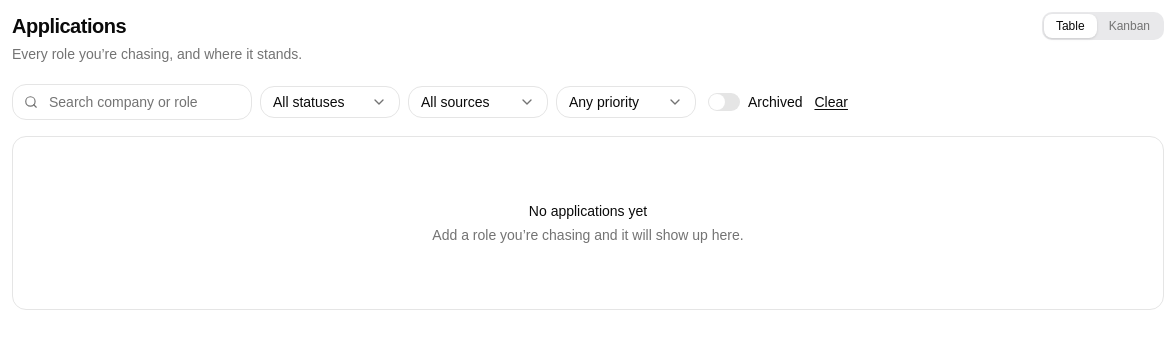
Test case: ApplicationsPage › empty state › offers 'Clear filters' when filters are active, and clearing resets the request
The width and height of the screenshot is (1164, 363).
Expected: the text "No applications yet" is shown, top-left (529, 201), bottom-right (647, 221)
Click the switch: (724, 102) top-left (708, 93), bottom-right (740, 111)
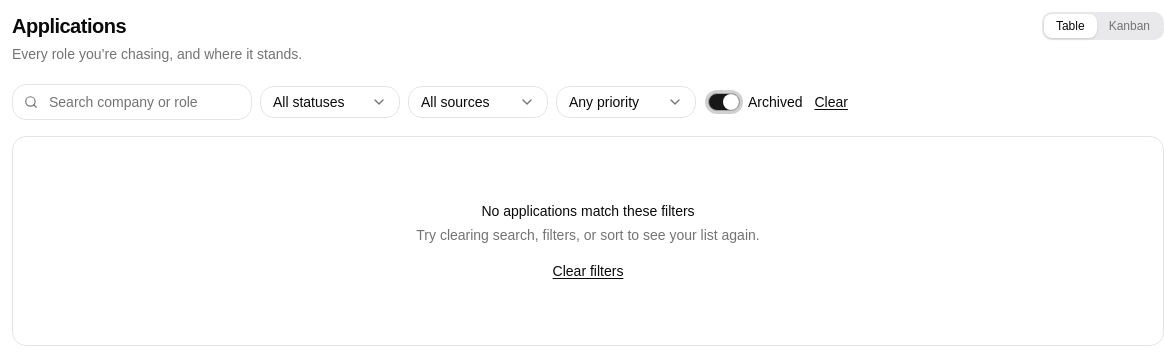
Expected: the text "No applications match these filters" is shown, top-left (481, 201), bottom-right (695, 221)
Click the button "Clear filters": (588, 271) top-left (553, 261), bottom-right (623, 281)
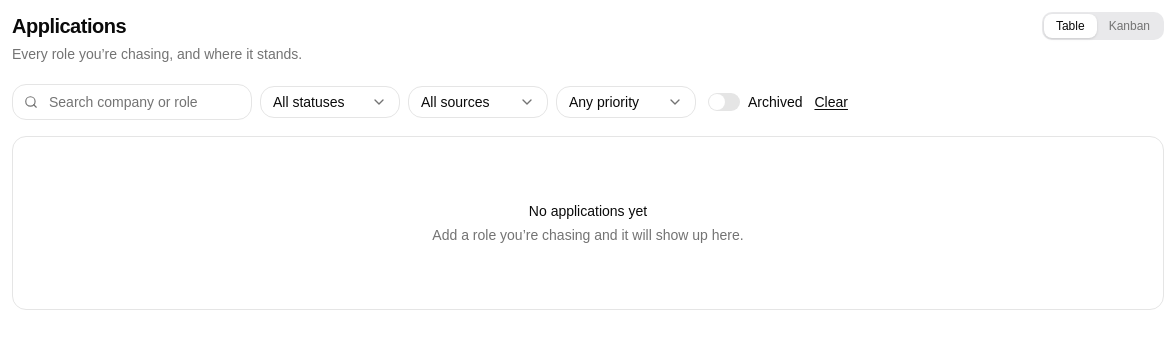
Expected: the text "No applications yet" is shown, top-left (529, 201), bottom-right (647, 221)
